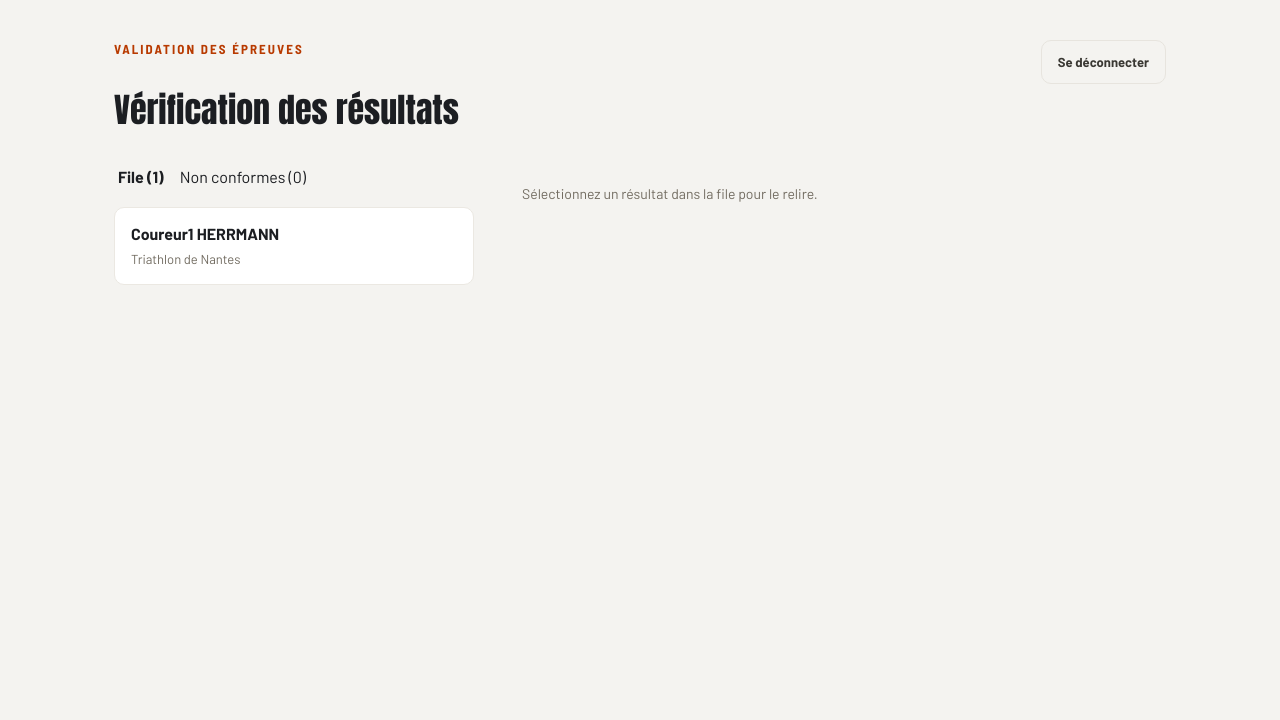
BenevolesPage › montre l'état de réussite quand la file est épuisée
Expected: the text "Coureur1 HERRMANN" is shown, [131,222,279,246]
Click the button "Coureur1 HERRMANN Triathlon de Nantes".
click(162, 234)  # box [114,207,474,284]
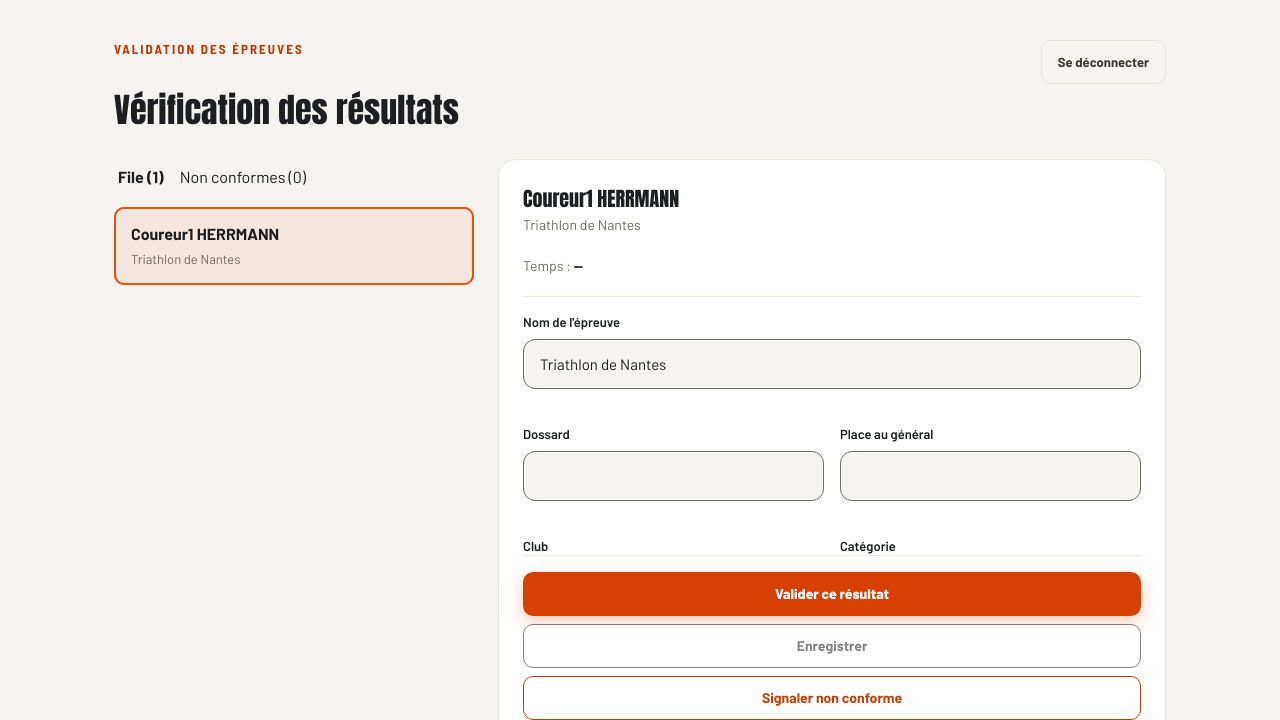
Click the button "Valider ce résultat".
click(832, 594)  # box [523,572,1141,616]
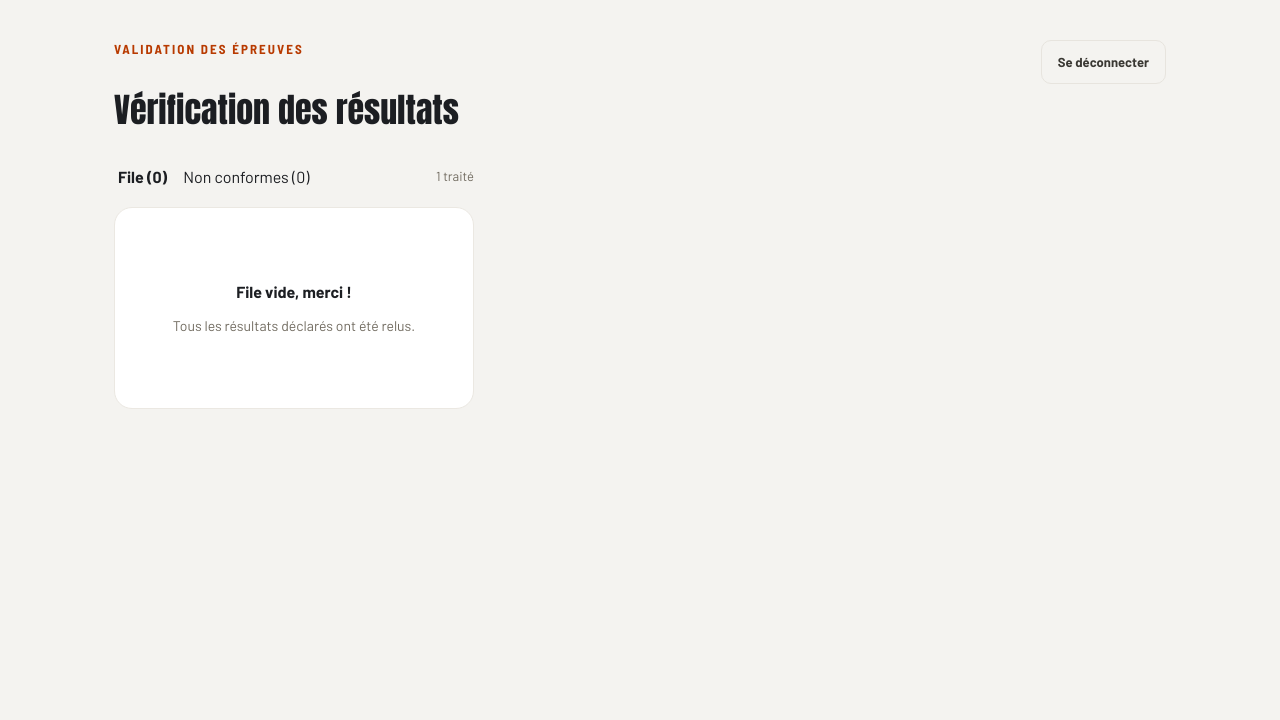
Expected: the text "Sélectionnez un résultat" is not shown
Expected: the text "File vide, merci !" is shown, [236,280,352,304]
